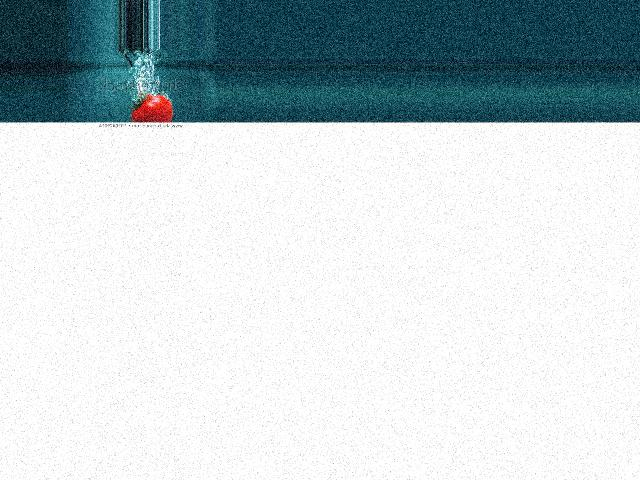tomato: (130, 94, 172, 122)
